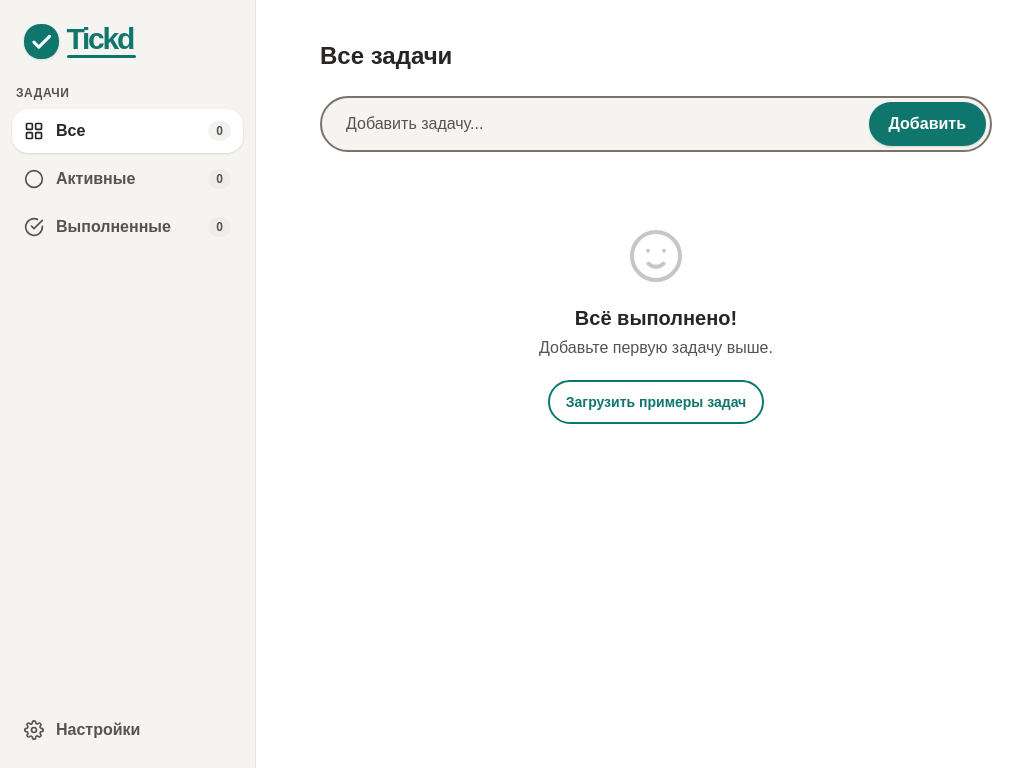
Test: sample tasks › uses localized titles in Russian
Click the button "Загрузить примеры задач" at (656, 402), box [548,380,764,424]
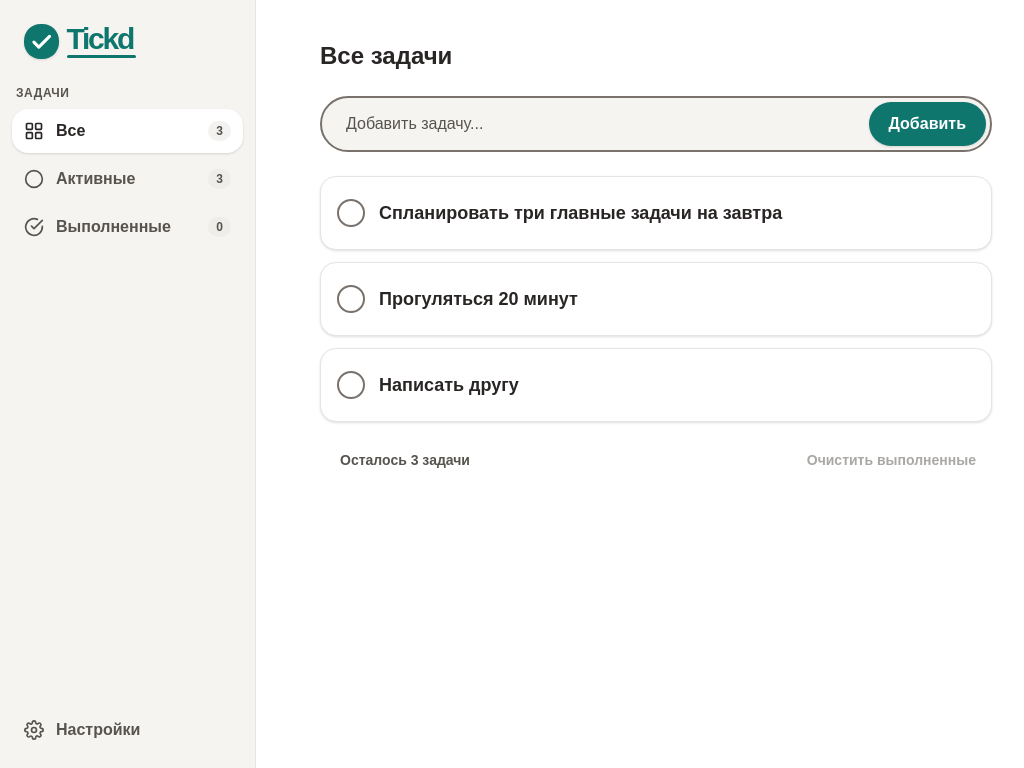
Result: the button "Прогуляться 20 минут" is shown at [379,277,929,321]
